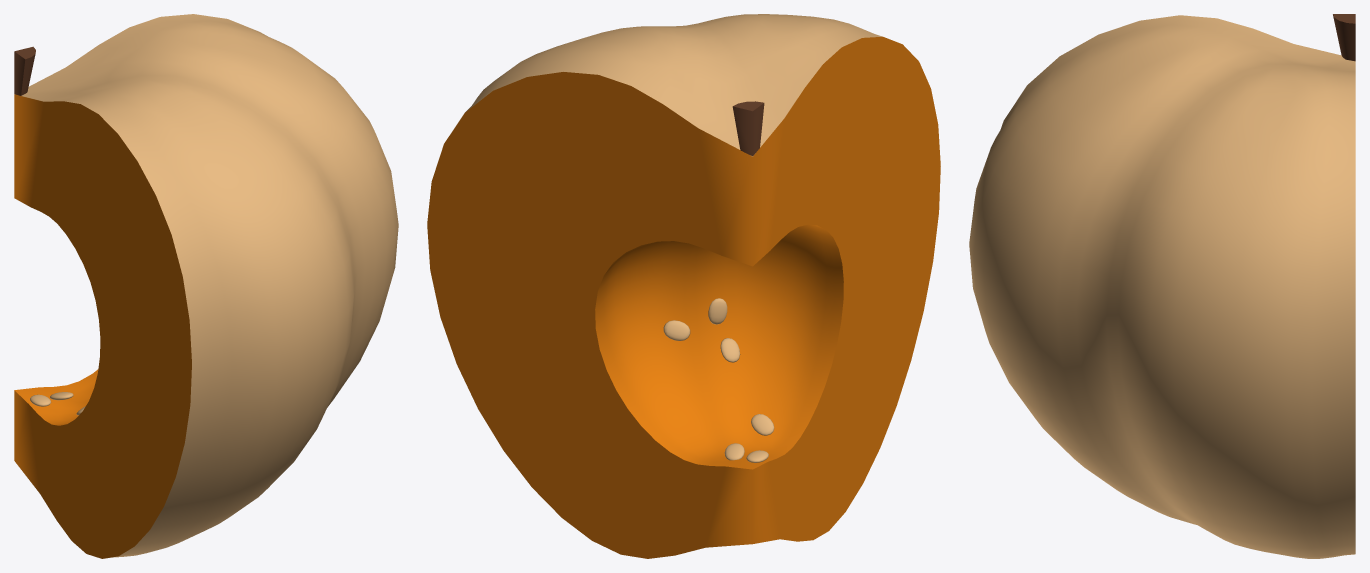
Rendered from pumpkinQuarter.fbx.
3 renders of one model, left to right at view 1: azimuth 30°, elevation 25°; view 2: azimuth 150°, elevation 25°; view 3: azimuth 270°, elevation 25°, orthographic. The views are drawn at different scales.
Parts seen in each view (by area): view 1: Sphere; view 2: Sphere; view 3: Sphere.
Part boxes in pixels (x1,y1,x2,y2): Sphere: (14,14,398,558); Sphere: (427,14,940,558); Sphere: (969,14,1355,558).
Bounding box in the file's own units: 78.4 × 107 × 78.4.
